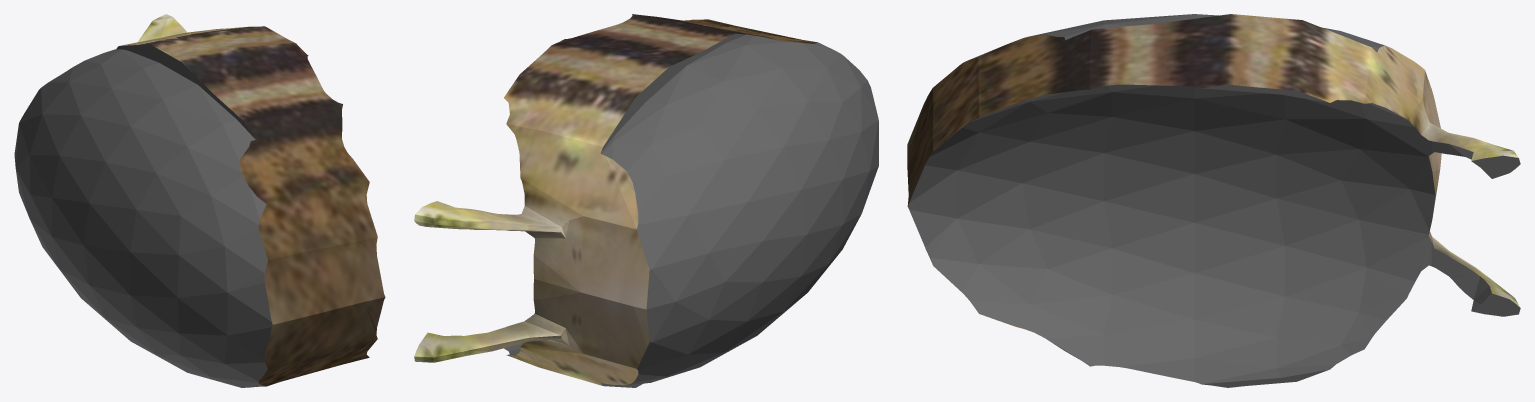
3 renders of one model, left to right at view 1: azimuth 30°, elevation 25°; view 2: azimuth 150°, elevation 25°; view 3: azimuth 270°, elevation 25°, orthographic. The views are drawn at different scales.
Visible parts, largest first — view 1: link_5_visual; view 2: link_5_visual; view 3: link_5_visual.
Part boxes in pixels (x1=…): link_5_visual: x1=14, y1=14, x2=385, y2=387; link_5_visual: x1=414, y1=14, x2=878, y2=387; link_5_visual: x1=907, y1=14, x2=1520, y2=387.
Bounding box in the file's own units: 0.00181 × 0.00218 × 0.00378.
Materials: 1 (1 with a texture image).
